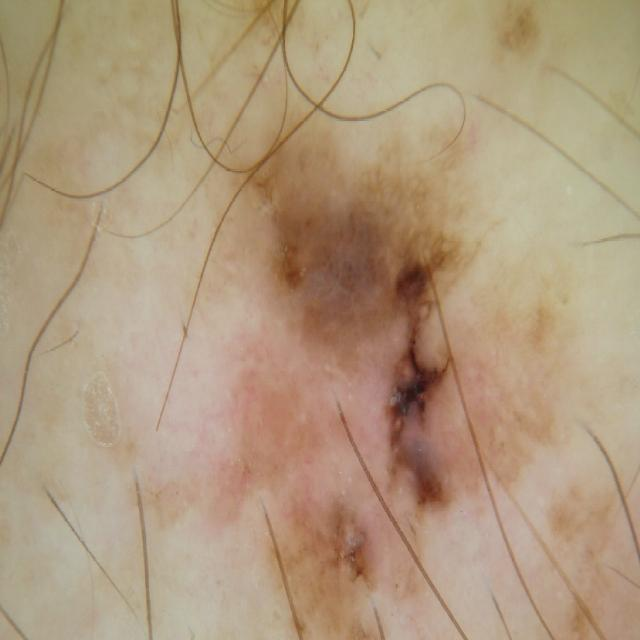Melanoma: (143, 191, 564, 640)
